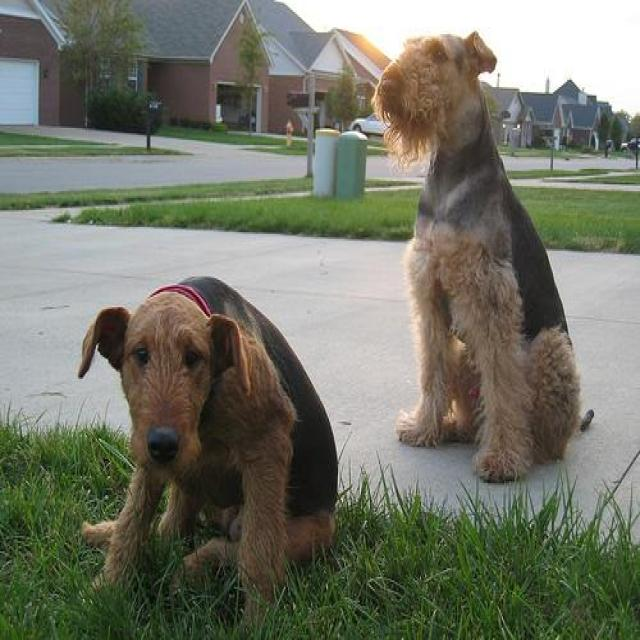airedale: (368, 27, 580, 478), (76, 273, 336, 638)
